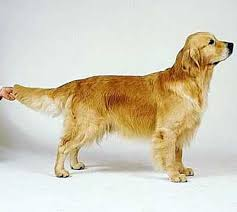Bulldog: (18, 24, 235, 182)
